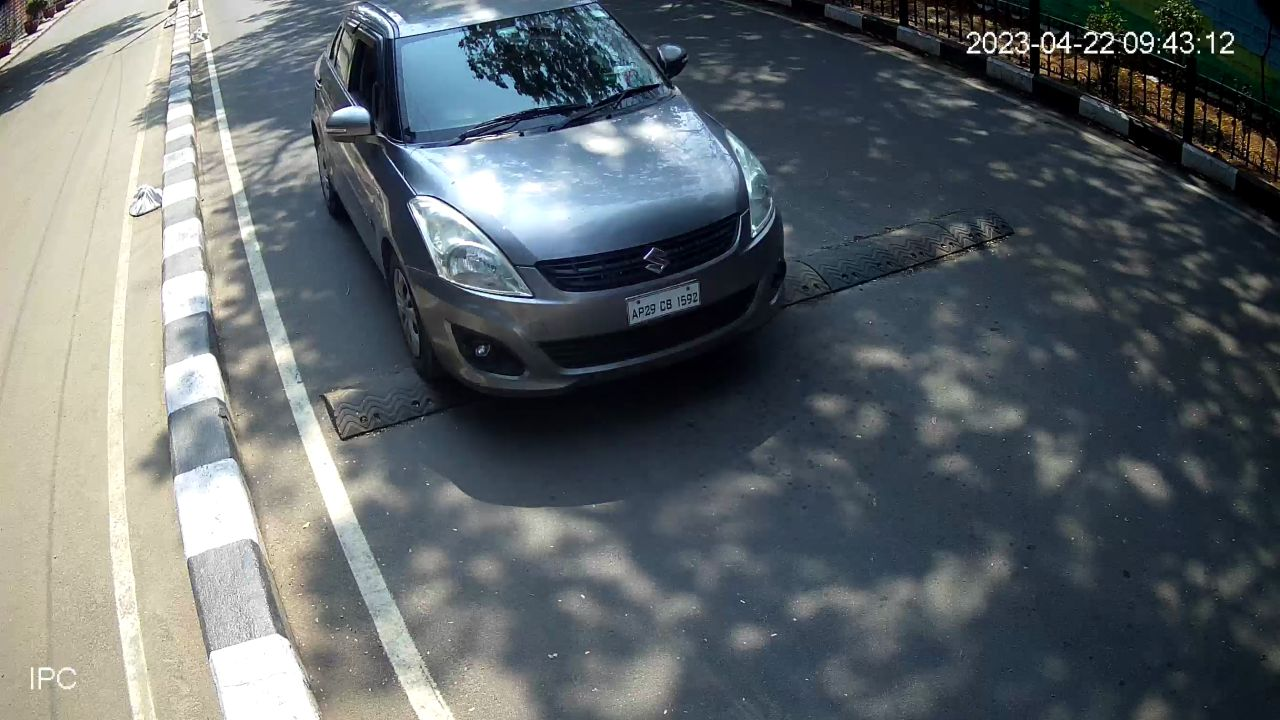license_plate: (621, 272, 707, 328)
